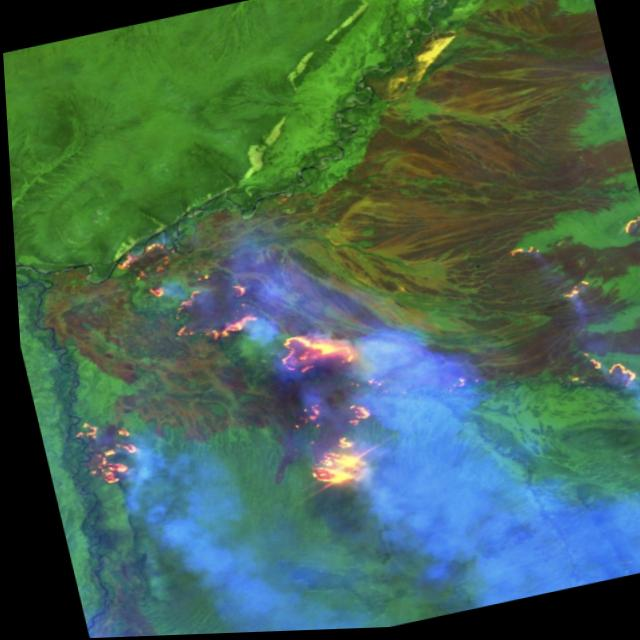fire: (18, 188, 449, 567)
